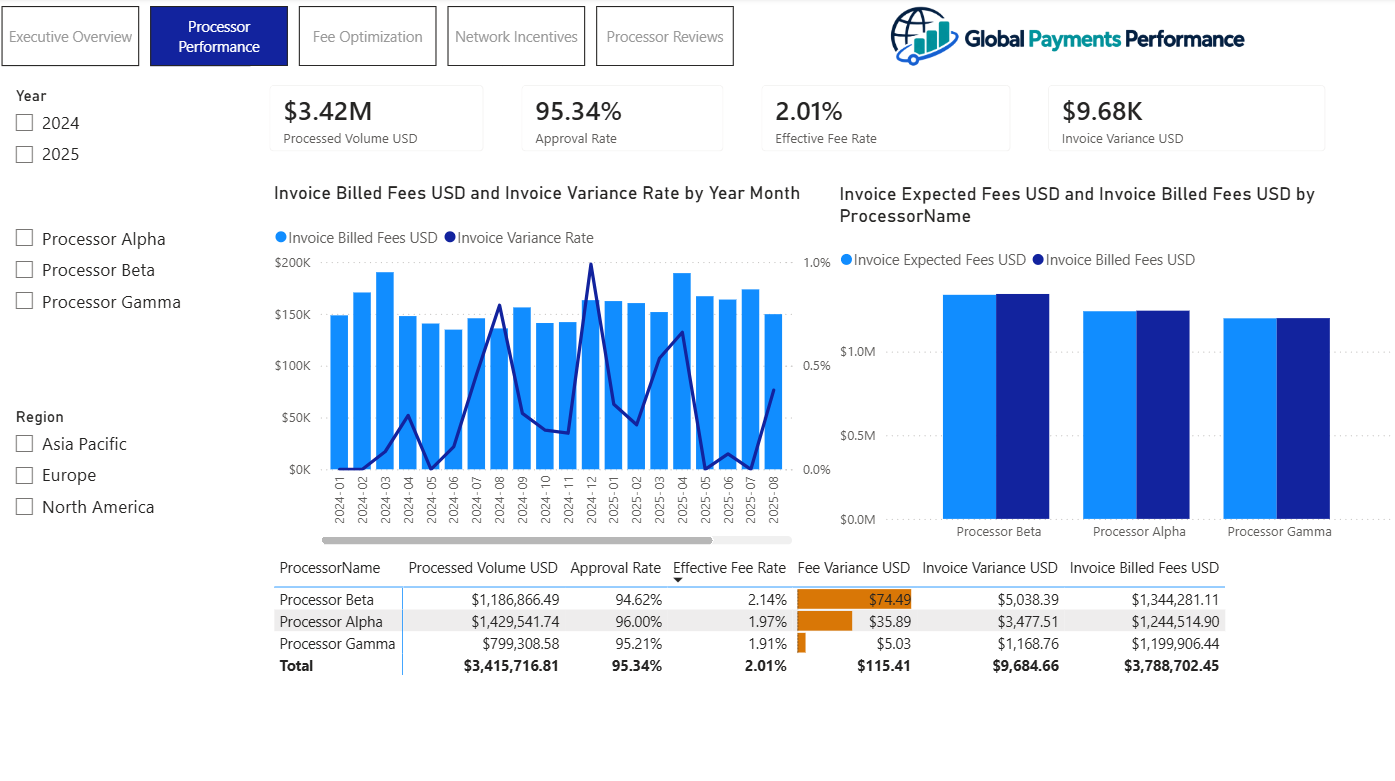

This screenshot's page, from the dashboard's own definition file:
{"tool":"powerbi","page":{"name":"Processor Performance","canvas":[1280,720],"ordinal":1},"visuals":[{"type":"slicer","fields":{"Values":["DimProcessor.ProcessorName"]},"box":[1051.4,105.1,228.6,189],"z":0},{"type":"slicer","fields":{"Values":["DimMarket.Region"]},"box":[1051.4,294.1,228.6,187.4],"z":1000},{"type":"cardVisual","fields":{"Data":["AllMeasures.Processed Volume USD"]},"box":[0,63.1,230.6,96.1],"z":2000},{"type":"cardVisual","fields":{"Data":["AllMeasures.Approval Rate"]},"box":[230.6,63.1,219.6,96.1],"z":3000},{"type":"cardVisual","fields":{"Data":["AllMeasures.Effective Fee Rate"]},"box":[450.1,63.1,262.1,96.1],"z":4000},{"type":"cardVisual","fields":{"Data":["AllMeasures.Invoice Variance USD"]},"box":[711.6,62.5,288,96],"z":5000},{"type":"lineStackedColumnComboChart","fields":{"Category":["DimDate.Year Month"],"Y":["AllMeasures.Invoice Billed Fees USD"],"Y2":["AllMeasures.Invoice Variance Rate"]},"box":[16.8,169.1,519.6,338.3],"z":6000},{"type":"clusteredColumnChart","fields":{"Category":["DimProcessor.ProcessorName"],"Y":["AllMeasures.Invoice Expected Fees USD","AllMeasures.Invoice Billed Fees USD"]},"box":[534.3,169.7,515,338.3],"z":7000},{"type":"pivotTable","fields":{"Rows":["DimProcessor.ProcessorName"],"Values":["AllMeasures.Processed Volume USD","AllMeasures.Approval Rate","AllMeasures.Effective Fee Rate","AllMeasures.Fee Variance USD","AllMeasures.Invoice Variance USD","AllMeasures.Invoice Billed Fees USD"]},"box":[16.8,507.4,1034.7,213.3],"z":8000},{"type":"slicer","fields":{"Values":["DimDate.Year"]},"box":[1051.4,0,213.3,126.5],"z":9000},{"type":"pageNavigator","box":[1.9,7.7,672.1,55.8],"z":10000}]}

Visuals, with their boxes in screenshot pixels (x1, y1, x2, y2), scaled from the page's 1280x720 canvas onto the 1395x781 screenshot:
slicer - DimProcessor.ProcessorName: 1146:114:1394:319
slicer - DimMarket.Region: 1146:319:1394:522
cardVisual - AllMeasures.Processed Volume USD: 0:68:251:173
cardVisual - AllMeasures.Approval Rate: 251:68:491:173
cardVisual - AllMeasures.Effective Fee Rate: 491:68:776:173
cardVisual - AllMeasures.Invoice Variance USD: 776:68:1089:172
lineStackedColumnComboChart - DimDate.Year Month x AllMeasures.Invoice Billed Fees USD: 18:183:585:550
clusteredColumnChart - DimProcessor.ProcessorName x AllMeasures.Invoice Expected Fees USD: 582:184:1144:551
pivotTable - DimProcessor.ProcessorName x AllMeasures.Processed Volume USD: 18:550:1146:780
slicer - DimDate.Year: 1146:0:1378:137
pageNavigator: 2:8:735:69
